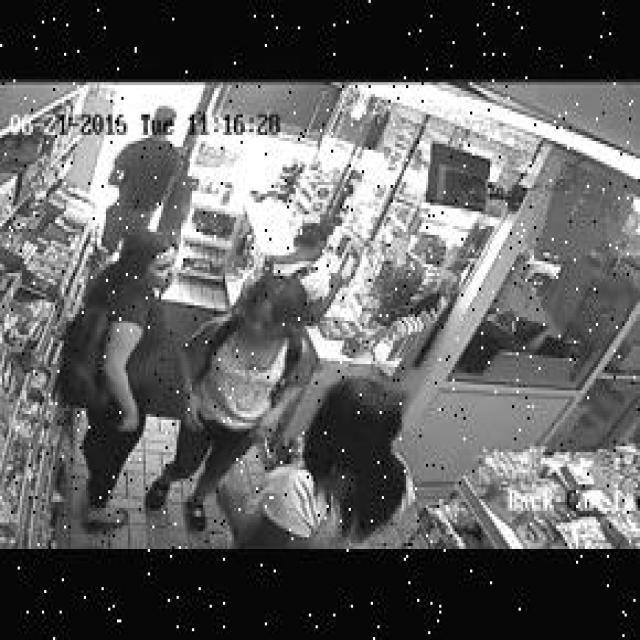Shoplifting: (171, 251, 325, 516)
